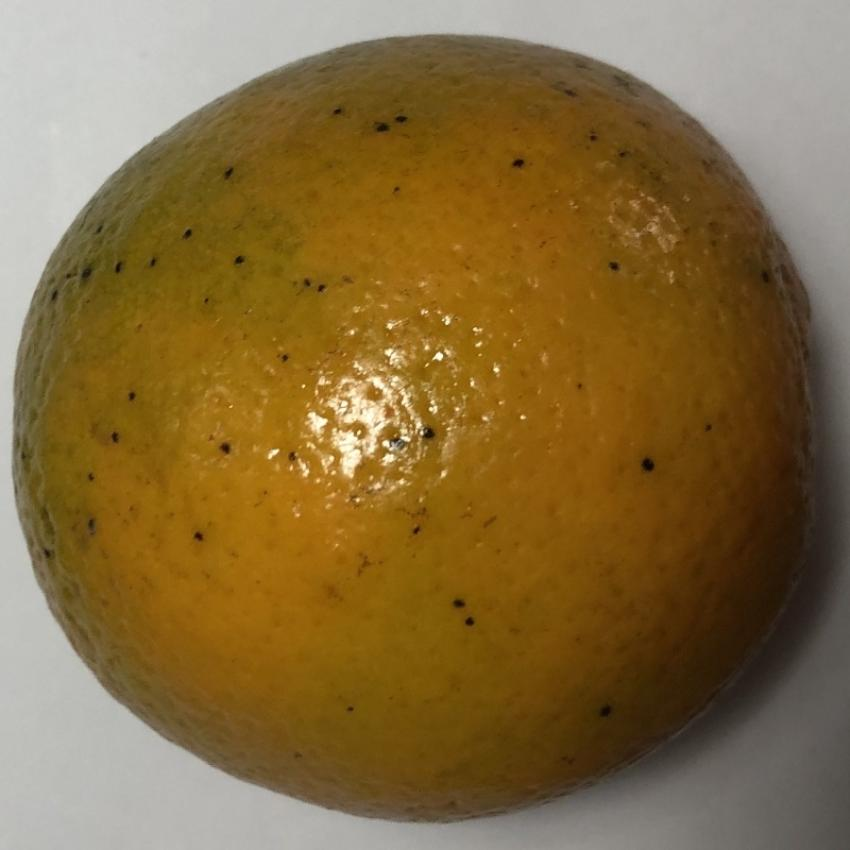Mal estado: (2, 13, 826, 836)
